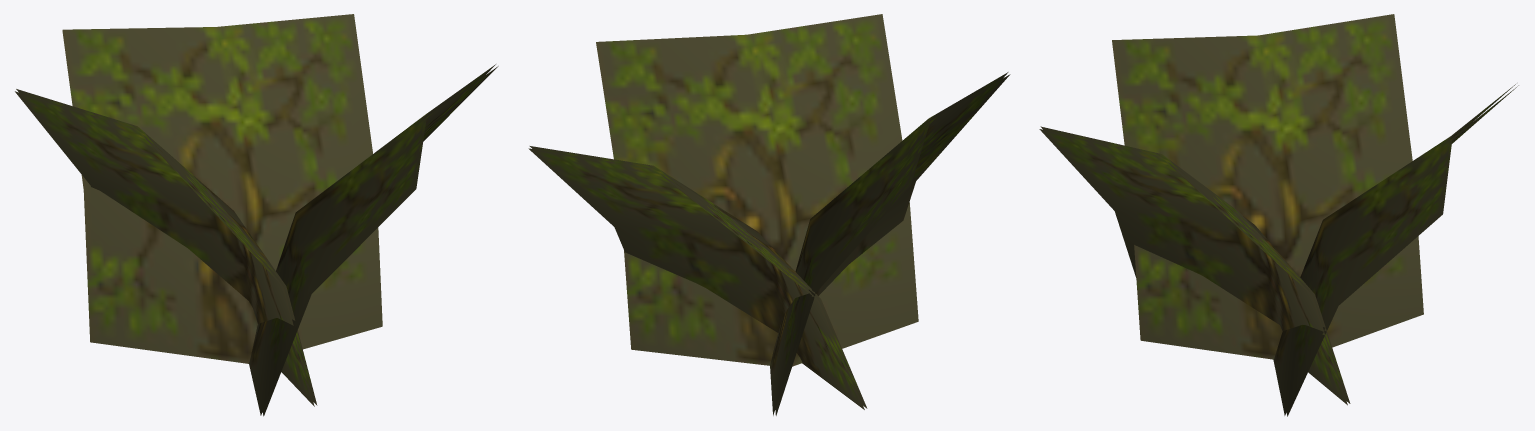
Rendered from bush_01 (2).fbx.
3 renders of one model, left to right at view 1: azimuth 30°, elevation 25°; view 2: azimuth 150°, elevation 25°; view 3: azimuth 270°, elevation 25°, orthographic. The views are drawn at different scales.
Parts seen in each view (by area): view 1: bush_01 (2); view 2: bush_01 (2); view 3: bush_01 (2).
Part boxes in pixels (<box>): bush_01 (2): <box>15,14,498,416</box>; bush_01 (2): <box>528,14,1010,415</box>; bush_01 (2): <box>1039,14,1518,416</box>.
Bounding box in the file's own units: 1.86 × 1.21 × 2.02.
